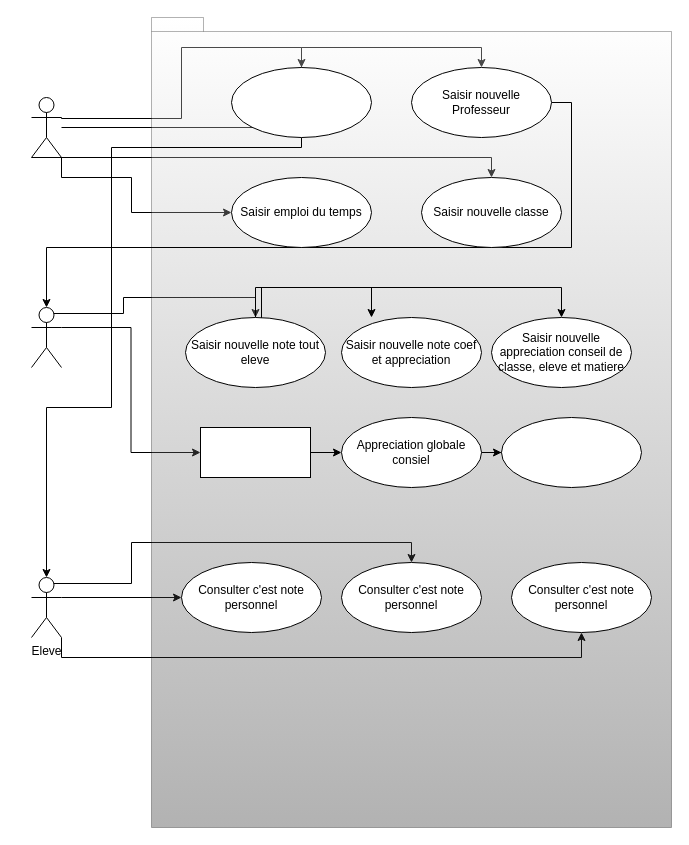
Image size: 689x845. Some labels were removed from this diagram. Here are the shapes that lost their labels. From the top down, the box of each, then its label:
(230, 66, 372, 138): Saisir nouvelle eleve
(30, 96, 62, 158): Dirigent
(30, 306, 62, 368): Professeur
(200, 426, 310, 478): Principale
(500, 416, 642, 488): Gestion professeur cours en cas d'absence
